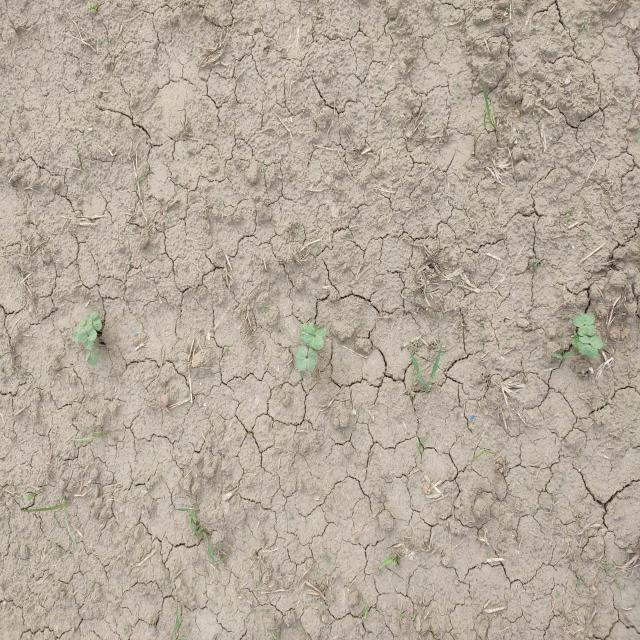seedling: (578, 334, 603, 349), (577, 341, 598, 358), (304, 333, 324, 350), (572, 313, 595, 327), (296, 345, 308, 371), (79, 329, 93, 350), (306, 348, 317, 371), (577, 324, 596, 337), (308, 323, 326, 336), (73, 324, 84, 343), (91, 312, 102, 331), (85, 324, 97, 341), (88, 347, 99, 365), (300, 323, 309, 342), (85, 352, 91, 362), (79, 319, 86, 327), (87, 313, 92, 324)
